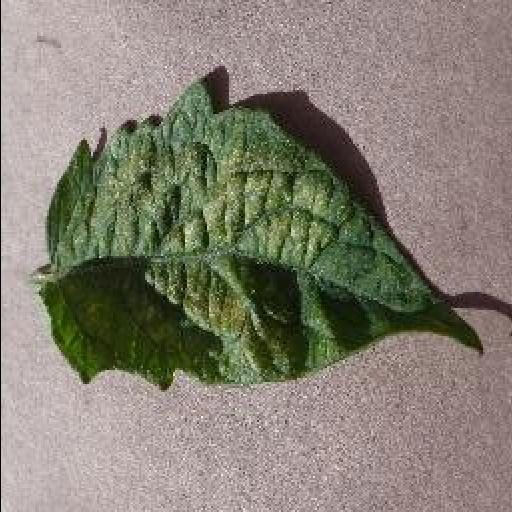disease_tomato: (45, 80, 463, 390)
